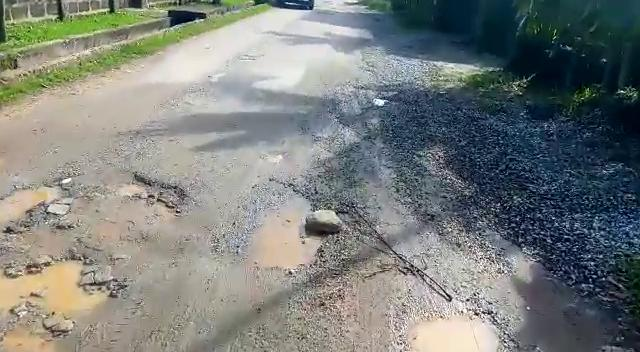pothole: (2, 252, 128, 333), (239, 203, 338, 277), (396, 312, 514, 352), (3, 176, 78, 232), (118, 172, 187, 220)
